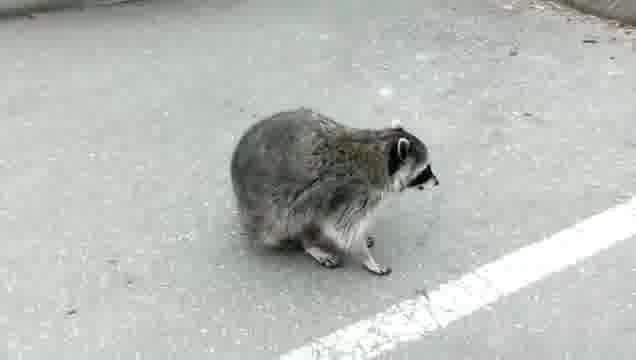raccoon: (229, 101, 444, 276)
